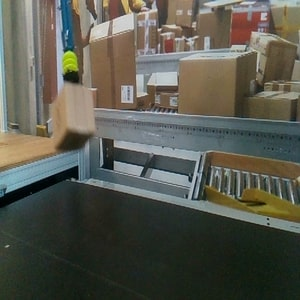box: (51, 81, 98, 153)
